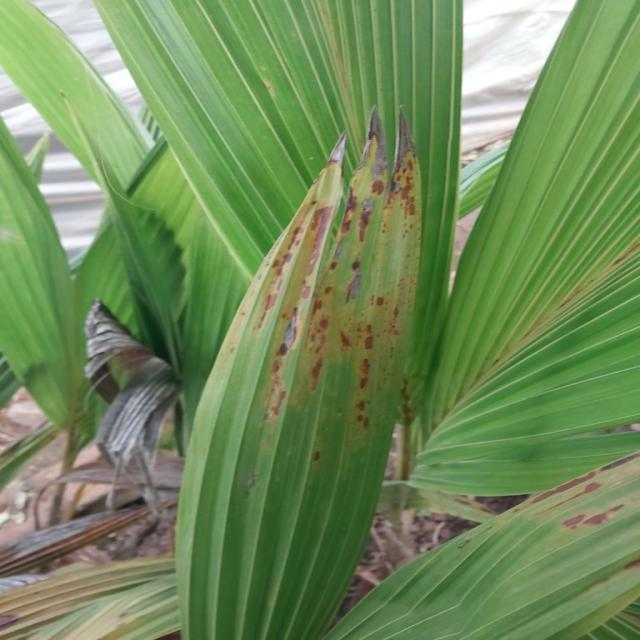gray leaf spot: (177, 112, 418, 639)
